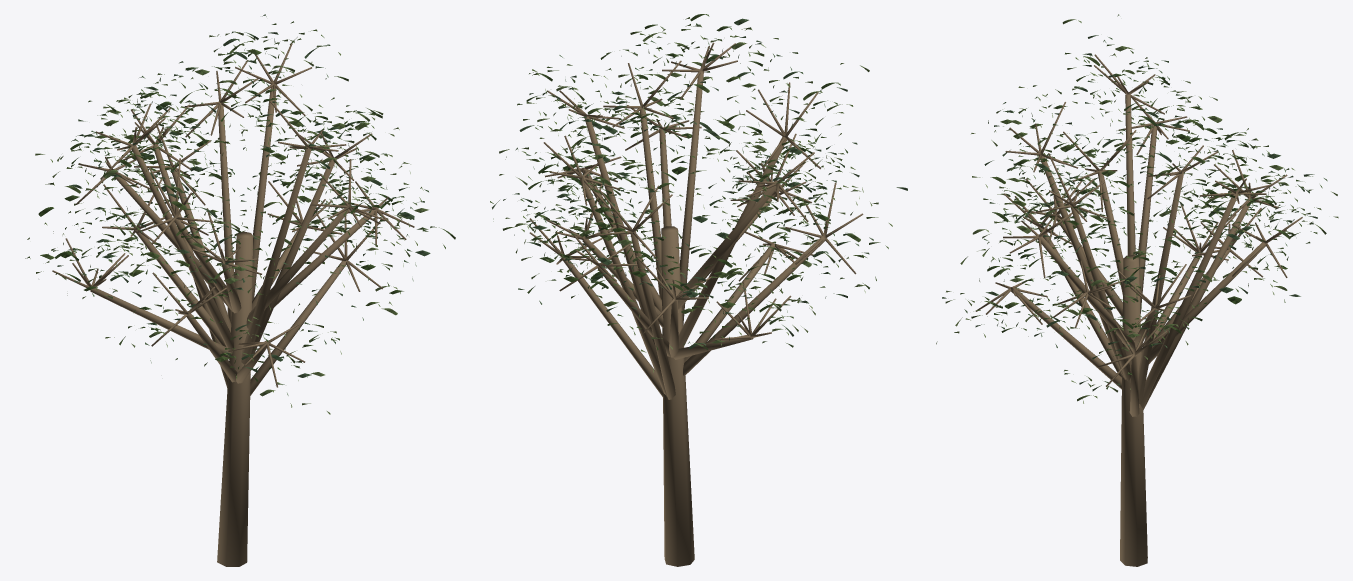
Rendered from street-tree-v1.glb.
3 renders of one model, left to right at view 1: azimuth 30°, elevation 25°; view 2: azimuth 150°, elevation 25°; view 3: azimuth 270°, elevation 25°, orthographic. The views are drawn at different scales.
Parts seen in each view (by area): view 1: Tapered branch; view 2: Tapered branch; view 3: Tapered branch.
Part boxes in pixels (left/top/right/bottom): Tapered branch: left=25, top=14, right=455, bottom=566; Tapered branch: left=490, top=14, right=907, bottom=566; Tapered branch: left=936, top=14, right=1338, bottom=566.
Bounding box in the file's own units: 2.53 × 3.46 × 2.61.
